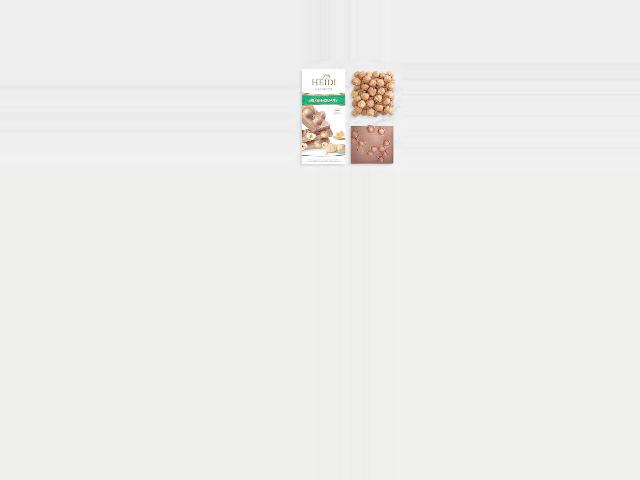chocolate: (348, 125, 398, 166)
